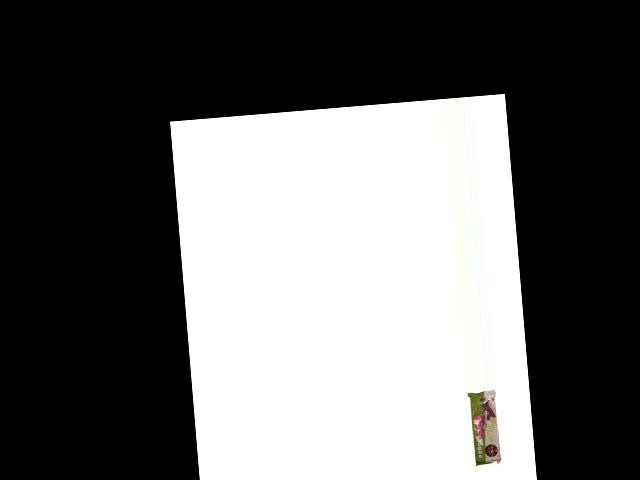chocolate: (467, 389, 504, 468)
